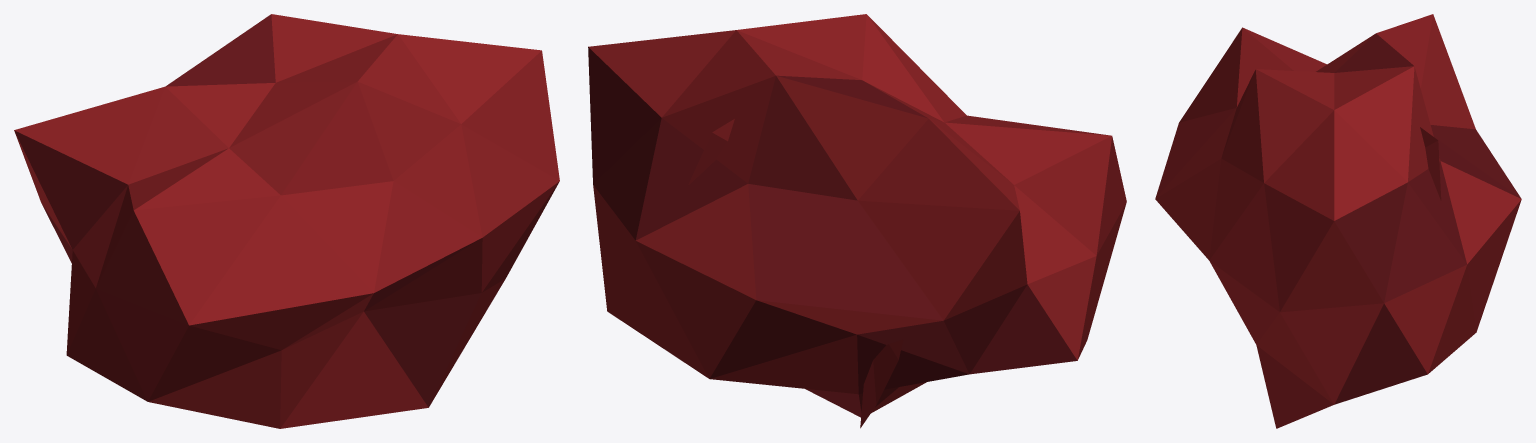
File: gib_chunk.glb
The picture shows the model from 3 angles, left to right: view 1: azimuth 30°, elevation 25°; view 2: azimuth 150°, elevation 25°; view 3: azimuth 270°, elevation 25°; orthographic projection. The views are drawn at different scales.
Parts seen in each view (by area): view 1: GibChunk; view 2: GibChunk; view 3: GibChunk.
Boxes of the visible parts, x1,y1,x2,y2 form: GibChunk: [14, 14, 559, 428]; GibChunk: [588, 14, 1126, 428]; GibChunk: [1155, 14, 1521, 428].
Bounding box in the file's own units: 0.3813 × 0.2746 × 0.2794.
